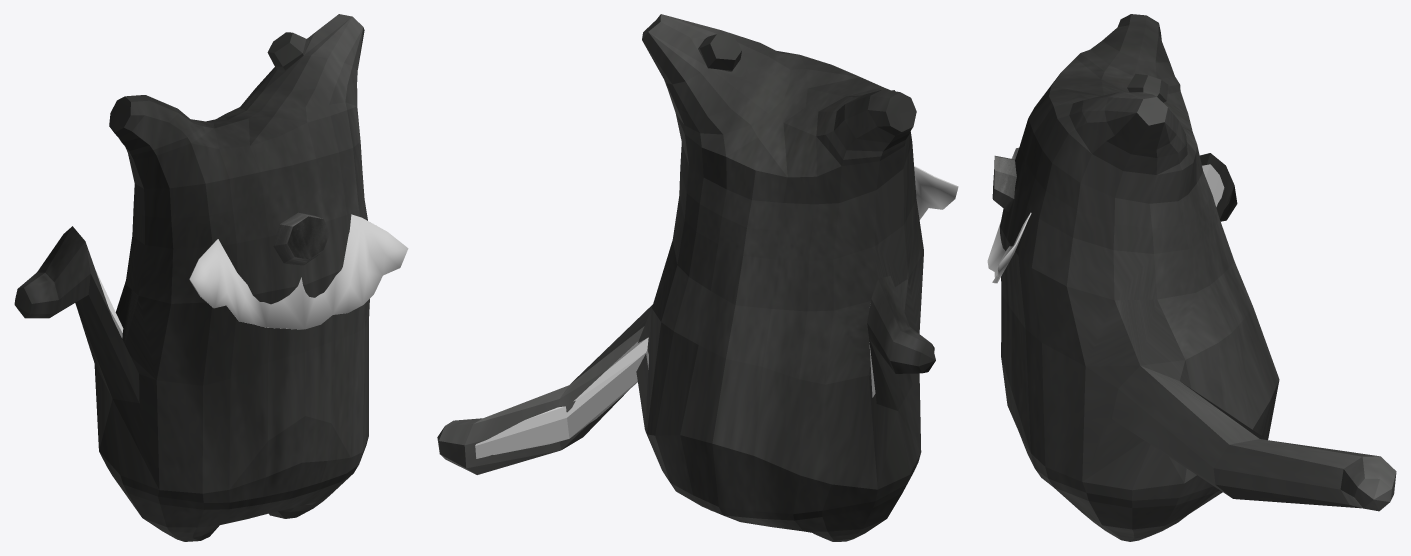
Rendered from frame_0057.obj.
The picture shows the model from 3 angles, left to right: view 1: azimuth 30°, elevation 25°; view 2: azimuth 150°, elevation 25°; view 3: azimuth 270°, elevation 25°; orthographic projection. The views are drawn at different scales.
Visible parts, largest first — view 1: korok, leaf, nose; view 2: korok, leaf; view 3: korok, nose, leaf.
Part boxes in pixels (left/top/right/bottom): korok: left=14, top=14, right=369, bottom=541; leaf: left=189, top=214, right=408, bottom=329; nose: left=273, top=212, right=329, bottom=265; korok: left=437, top=14, right=935, bottom=541; leaf: left=914, top=165, right=958, bottom=219; korok: left=1000, top=14, right=1396, bottom=541; nose: left=992, top=155, right=1016, bottom=212; leaf: left=987, top=147, right=1031, bottom=283.
Size of the model in its own units: 1.96 by 2.2 by 1.72.
